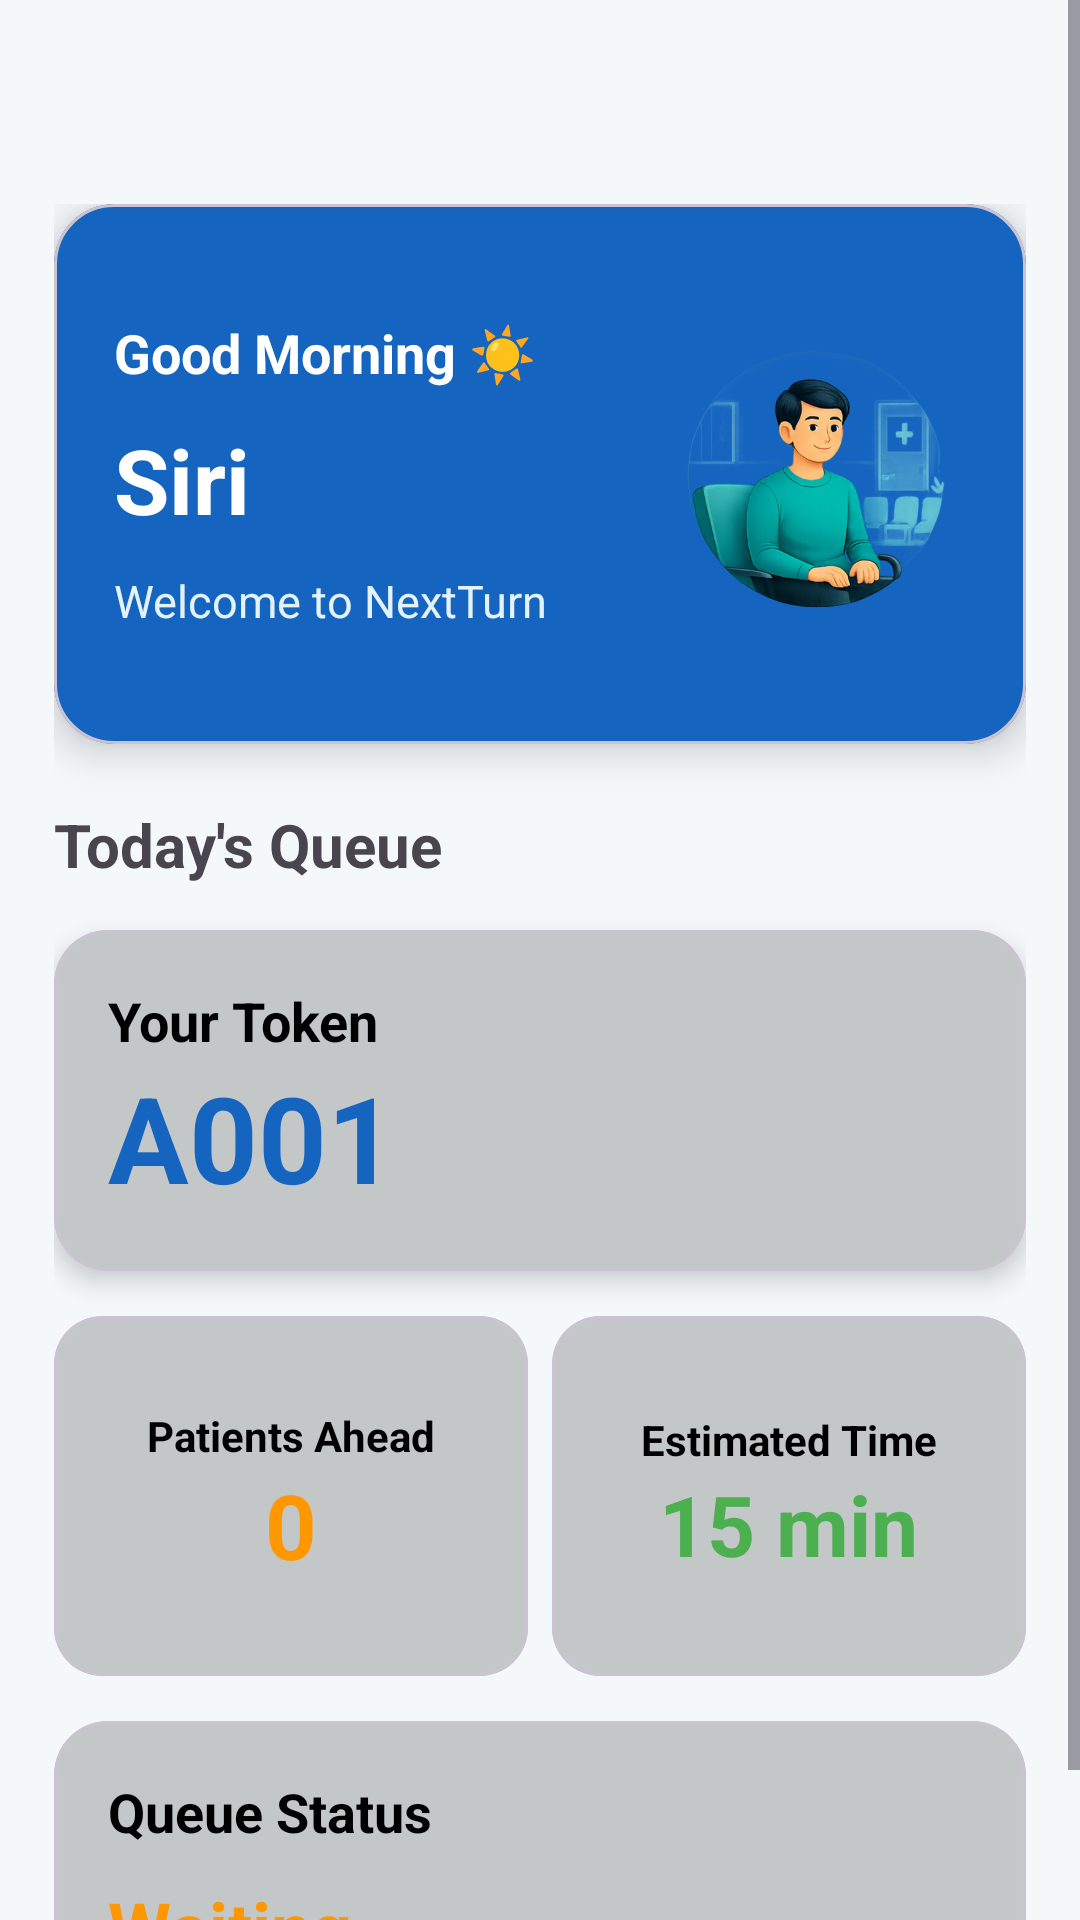

Named icons in this screenshot (1080x1920) and their centers, [x,y]:
patienticon: [818,493]
